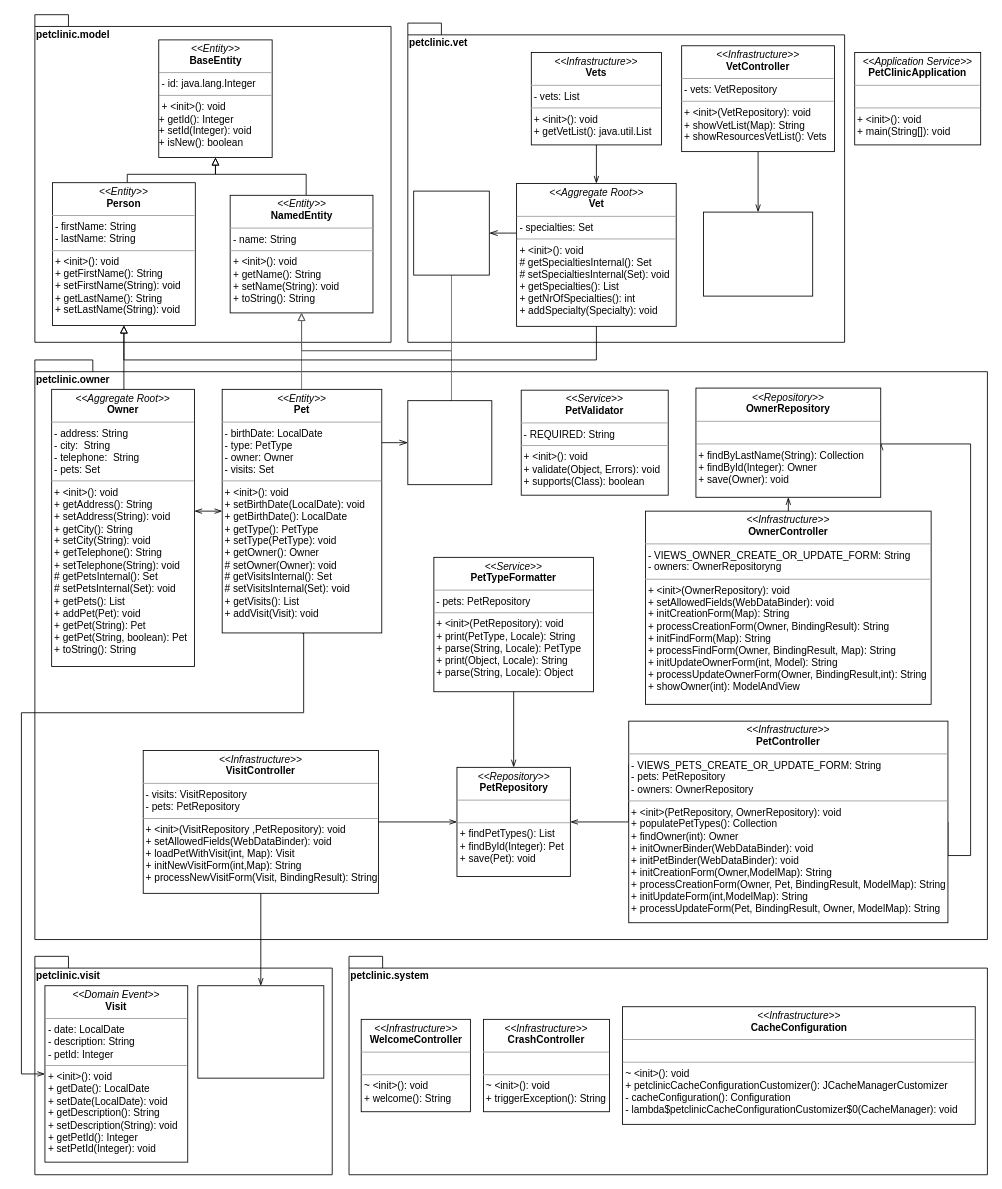
Some shapes in this 1002 by 1189 pixel diagram are drawn without their labels. The shapes that lost their labels are listed below. From the top down, each one's centre as x and y in pixels, then its label:
point (451, 232): <<Entity>> Specialty + <init>(): void
point (758, 253): <<Repository>> VetRepository + findAll(): Collection
point (449, 442): <<Entity>> PetType + <init>(): void
point (260, 1031): <<Repository>> VisitRepository + save(Visit): void + findByPetId(Integer): List
